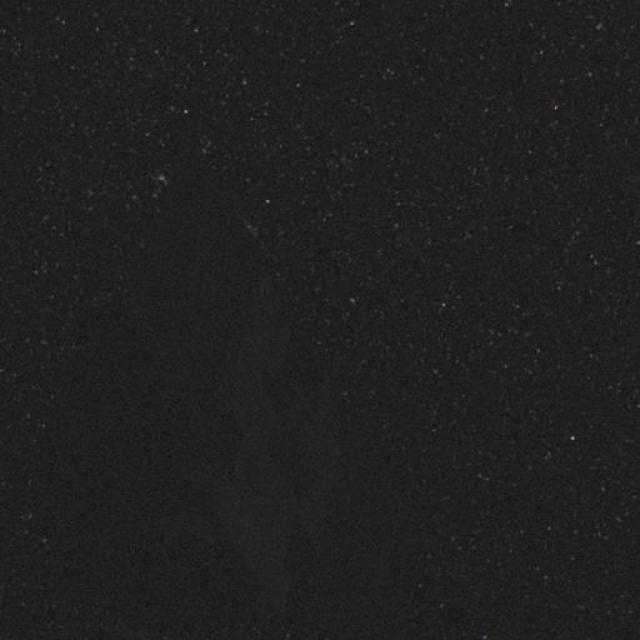proba_2: (123, 218, 375, 621)
